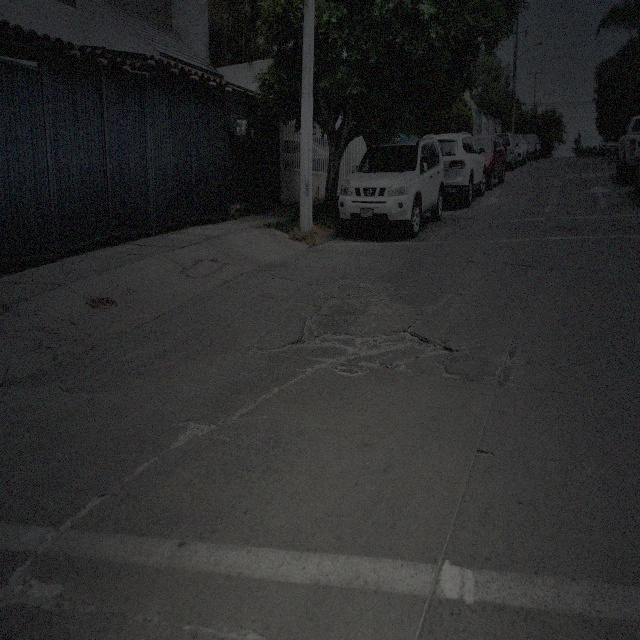pothole: (174, 417, 217, 453), (297, 317, 326, 348), (401, 328, 427, 350), (430, 339, 454, 356), (475, 448, 496, 460)
